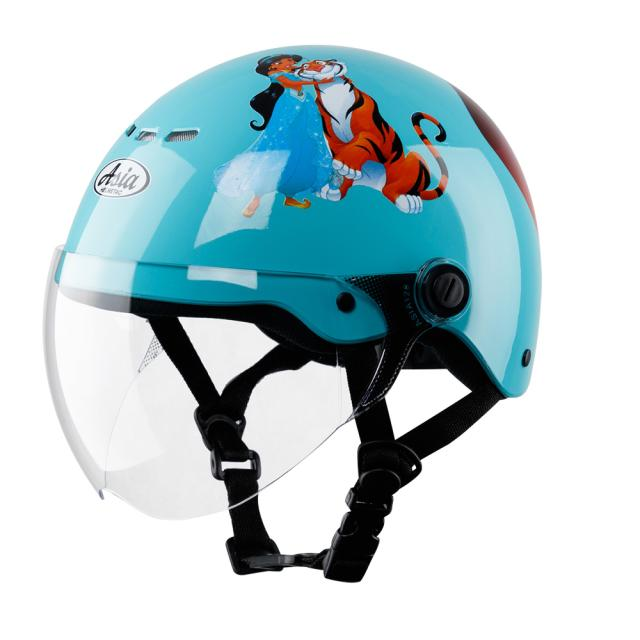Helmet: (41, 42, 547, 582)
